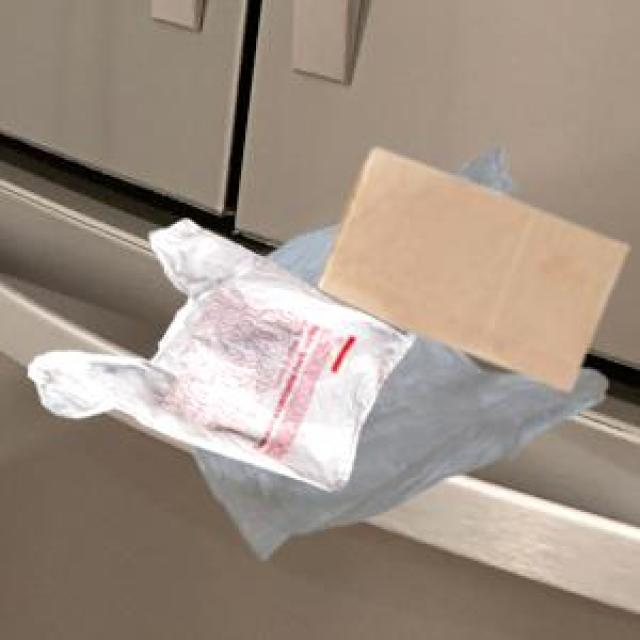paper: (316, 145, 623, 386)
